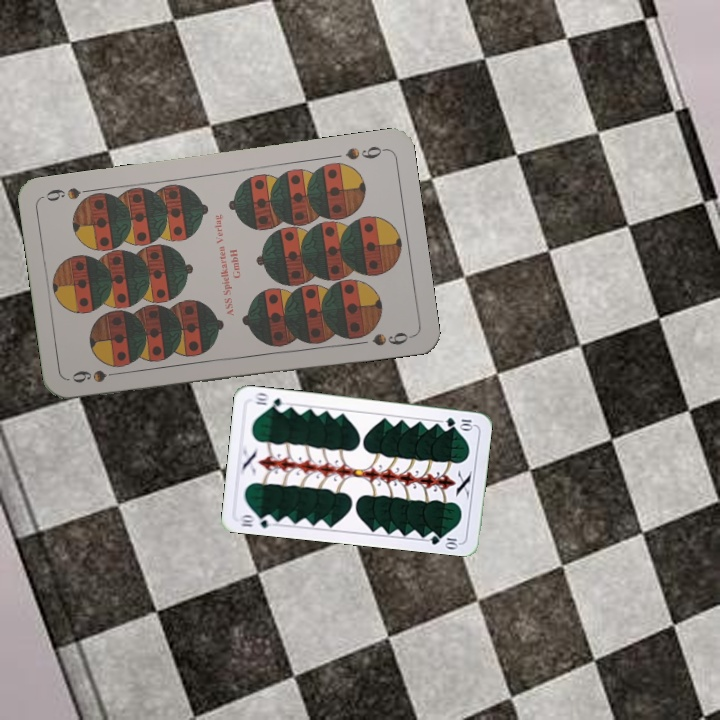G10: (236, 510, 277, 531), (441, 413, 476, 431)
S9: (67, 366, 126, 385), (341, 142, 388, 163)
